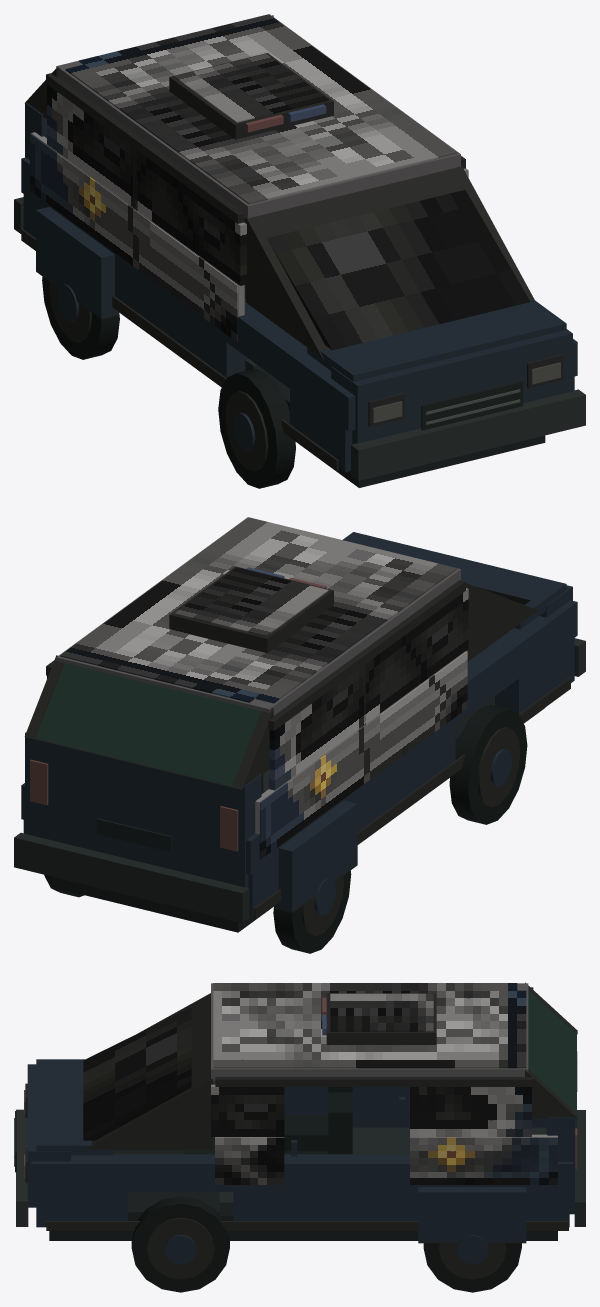
File: CMU3DRMCPropVehicleMonoSupronCopDestroyed.glb
3 renders of one model, top to bottom at view 1: azimuth 30°, elevation 25°; view 2: azimuth 150°, elevation 25°; view 3: azimuth 270°, elevation 25°, orthographic. The views are drawn at different scales.
Visible parts, largest first — view 1: source roof panel, continuous sloped windshield, painted side door -1 0, side glazing -1 0, sloping windshield surround, nose lower panel, front bumper, hood top, upper wheel arch rail -1, roof base, roof pod original top, rear wheel cover (+16 smaller); view 2: source roof panel, rear tailgate, raked rear glazing, painted side door -1 0, side glazing -1 0, rear black bumper, upper wheel arch rail -1, roof pod original top, rear wheel cover, tire 1 -1, lower skirt -1 1, hood top (+17 smaller); view 3: source roof panel, upper wheel arch rail 1, continuous sloped windshield, lower skirt 1 1, painted side door 1 1, sloping windshield surround, side glazing 1 1, rear wheel cover, hood top, chassis dark underside, tire 1 1, roof pod original top (+24 smaller).
Part boxes in pixels (x1,y1,x2,y2): source roof panel: (65,14,457,204); continuous sloped windshield: (267,190,530,350); painted side door -1 0: (30,133,237,341); side glazing -1 0: (47,84,246,285); sloping windshield surround: (245,164,534,358); nose lower panel: (331,329,572,444); front bumper: (351,389,585,480); hood top: (307,299,566,381); upper wheel arch rail -1: (21,157,355,431); roof base: (56,14,460,218); roof pod original top: (174,54,328,122); rear wheel cover: (36,207,119,317); source roof panel: (60,517,457,703); rear tailgate: (25,732,261,887); raked rear glazing: (35,663,261,785); painted side door -1 0: (259,651,467,859); side glazing -1 0: (268,588,468,790); rear black bumper: (14,832,249,922); upper wheel arch rail -1: (246,600,577,874); roof pod original top: (174,567,328,636); rear wheel cover: (274,800,357,911); tire 1 -1: (449,704,527,824); lower skirt -1 1: (343,718,455,831); hood top: (343,532,566,629); source roof panel: (213,983,526,1068); upper wheel arch rail 1: (31,1154,573,1191); continuous sloped windshield: (83,1007,191,1140); lower skirt 1 1: (233,1180,419,1220); painted side door 1 1: (410,1137,557,1184); sloping windshield surround: (85,993,212,1149); side glazing 1 1: (410,1087,531,1136); rear wheel cover: (418,1187,526,1241); hood top: (36,1059,112,1155); chassis dark underside: (49,1150,557,1240); tire 1 1: (131,1196,229,1292); roof pod original top: (330,993,433,1031).
Bounding box in the file's own units: 0.8589 × 0.8778 × 1.98.
Materials: 31 (9 with a texture image).
